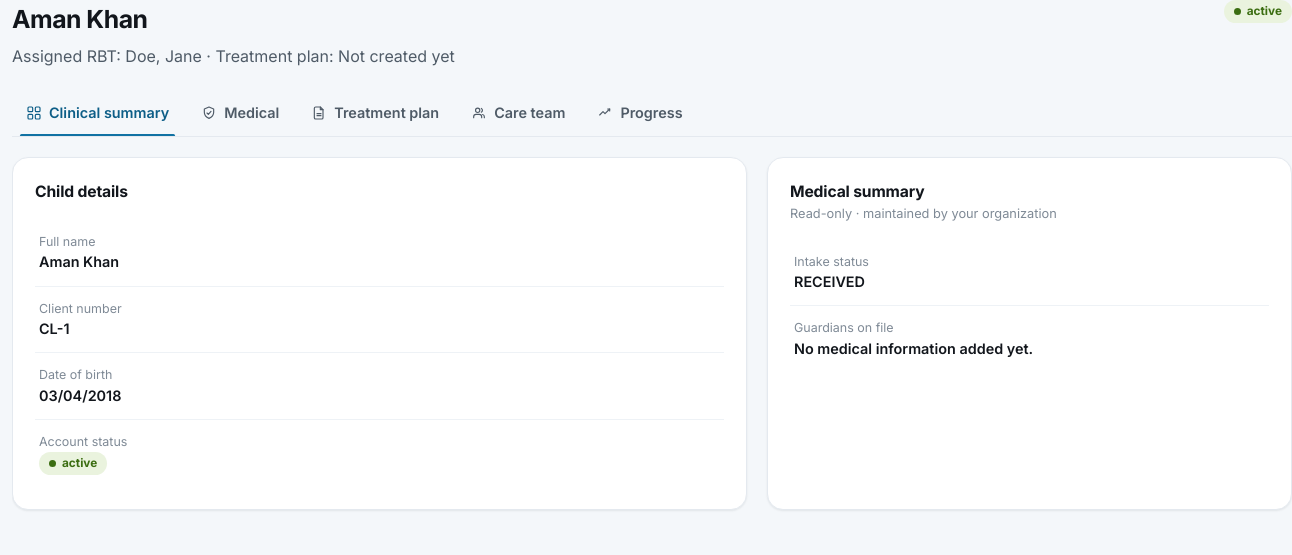
it: Child Profile → Treatment Plans › surfaces a real error state when the plans query fails (not a wrong-child / empty fake)
Step 1. Click the tab "Treatment plan" → (375, 113), box 297,91 -> 453,136
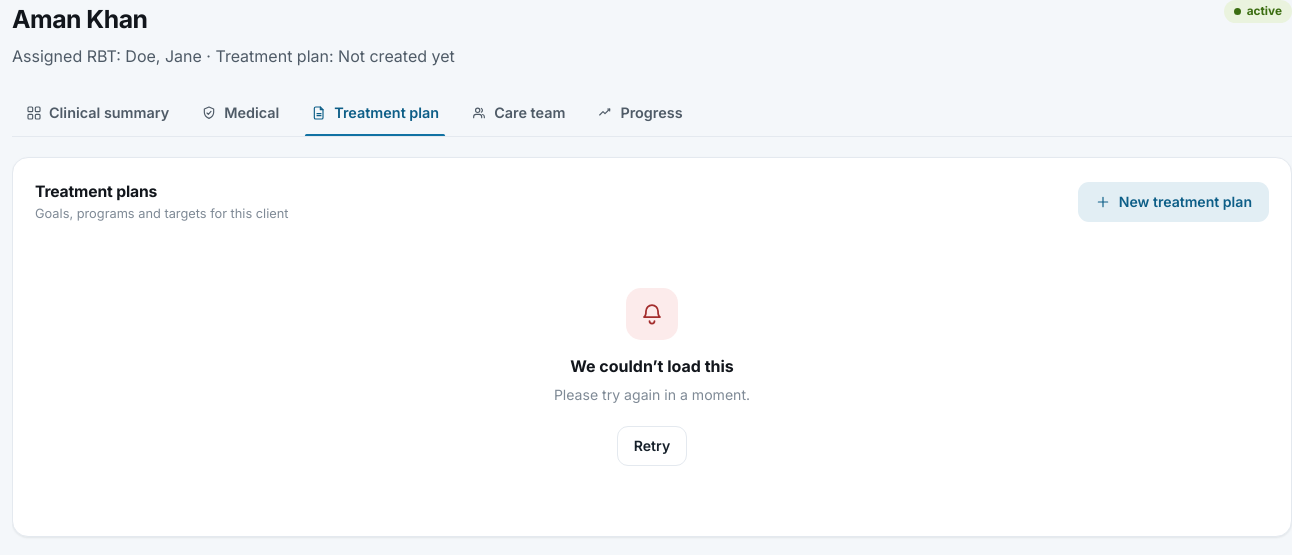
Expected: the text "Retry" is shown, 617,426 -> 687,466
